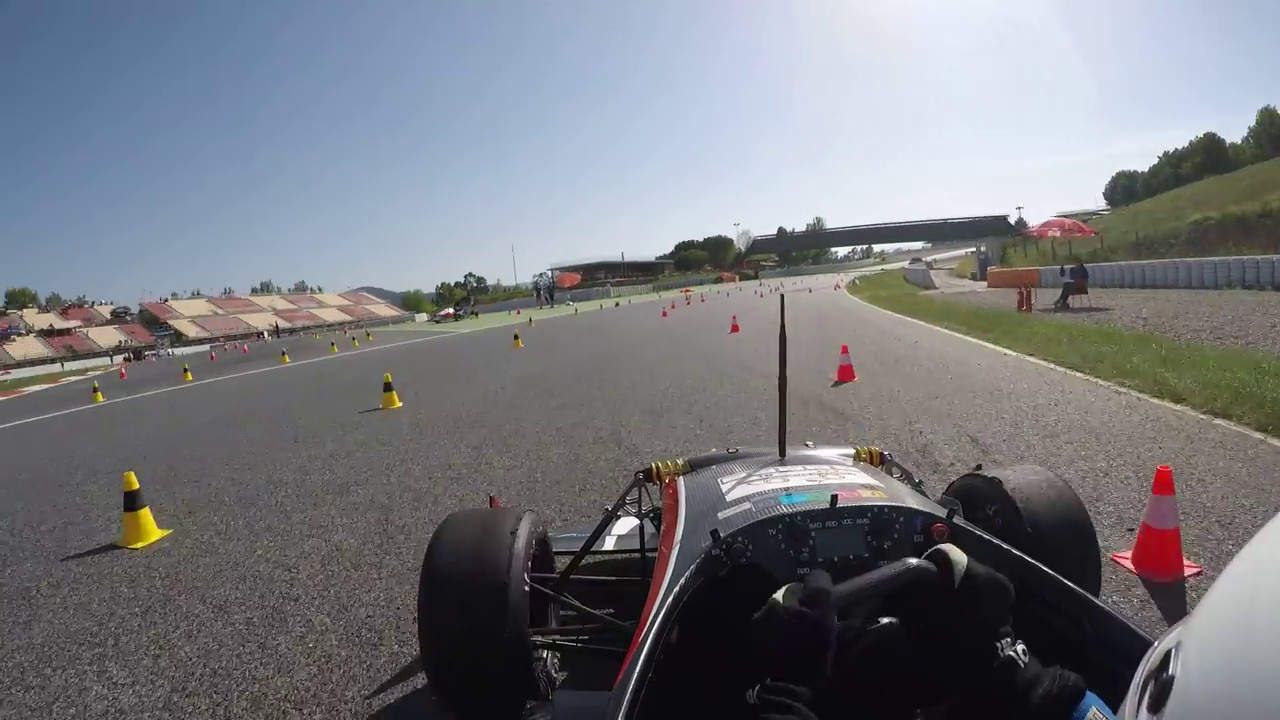Cone: (1123, 464, 1197, 581), (115, 468, 162, 550), (834, 343, 858, 386), (381, 372, 402, 412)
